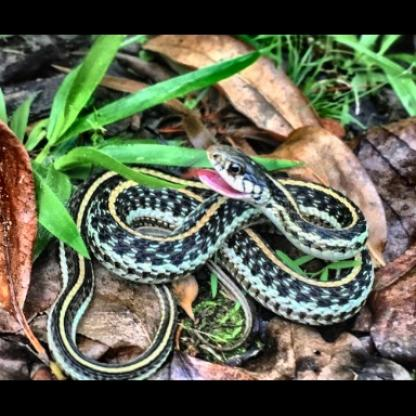Snake: (57, 143, 372, 366)
